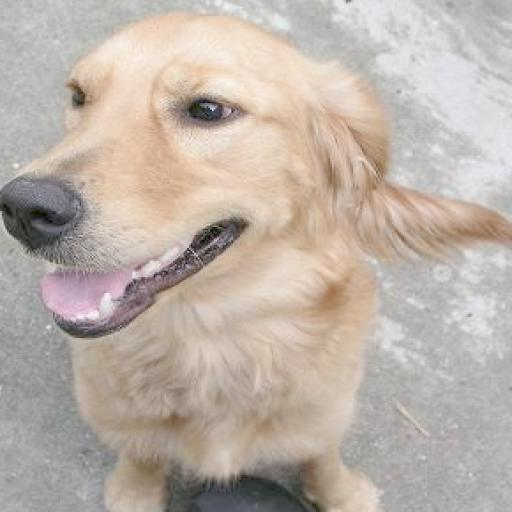dog_face: (2, 19, 416, 334)
